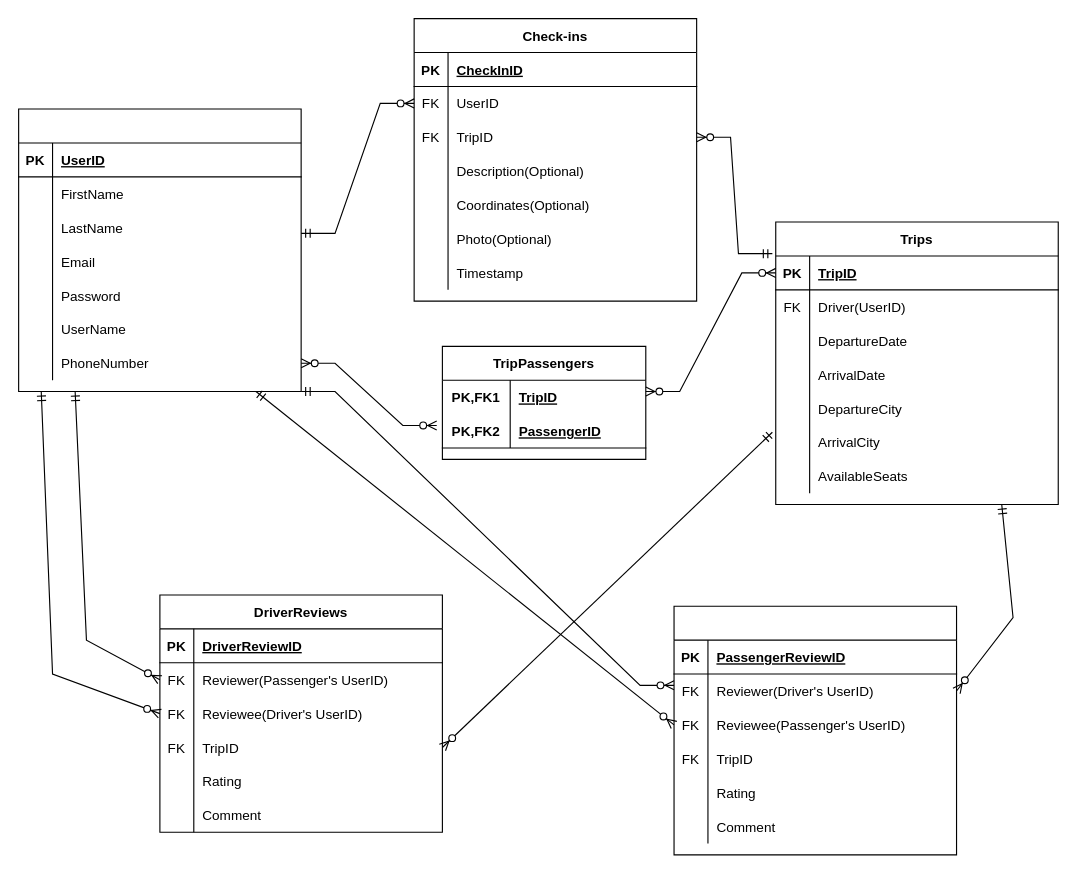
Some shapes in this 1077 by 873 pixel diagram are drawn without their labels. The box of each missing label's shape, as (x1, y1, x2, y2) in pixels:
PassengerReviews: (673, 605, 957, 855)
Users: (18, 108, 301, 392)
